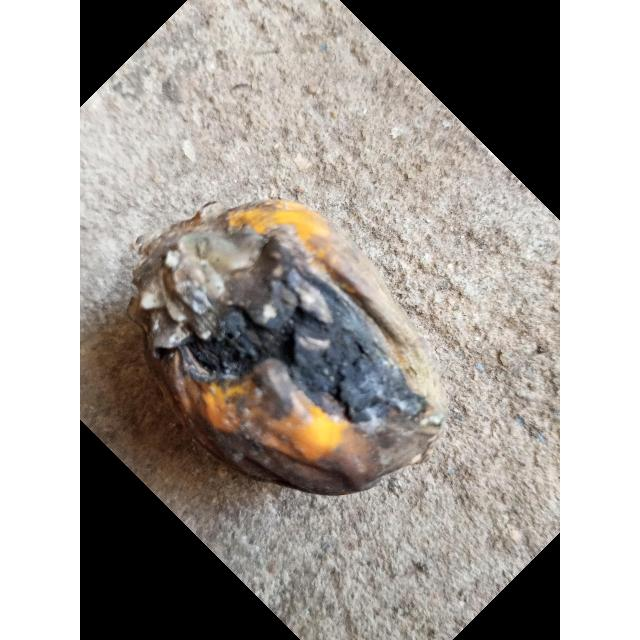damaged: (128, 200, 446, 495)
